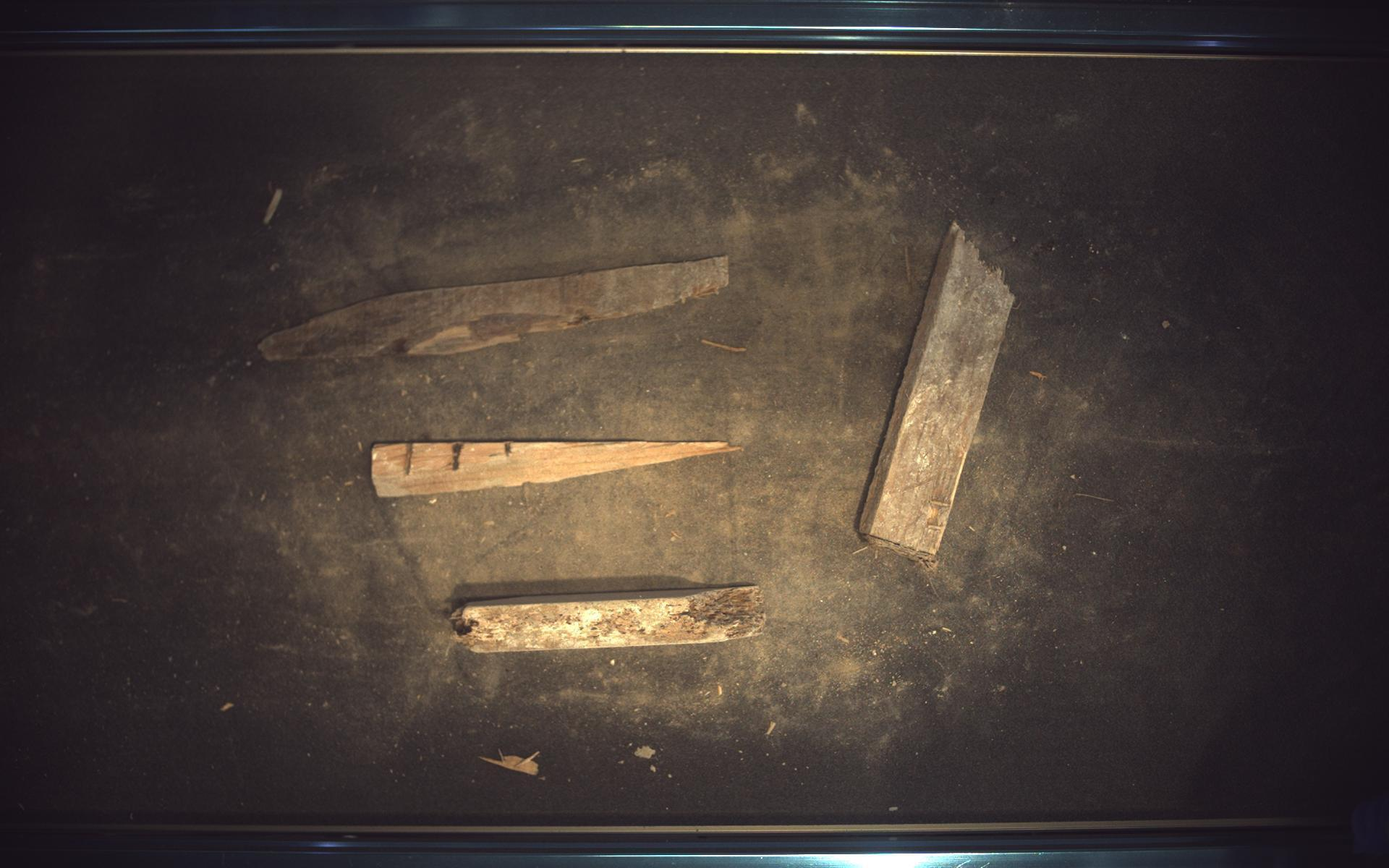wood: (861, 223, 1016, 561), (258, 255, 729, 361), (453, 586, 765, 654), (371, 441, 742, 498)
